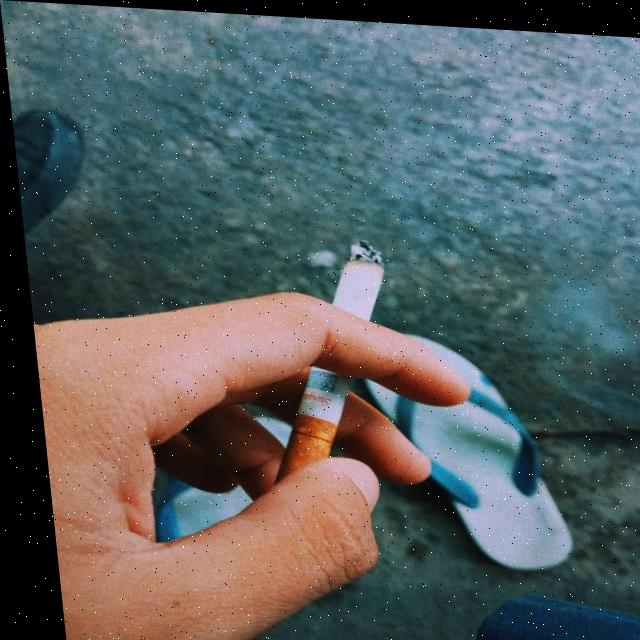cigarette: (248, 232, 398, 486)
